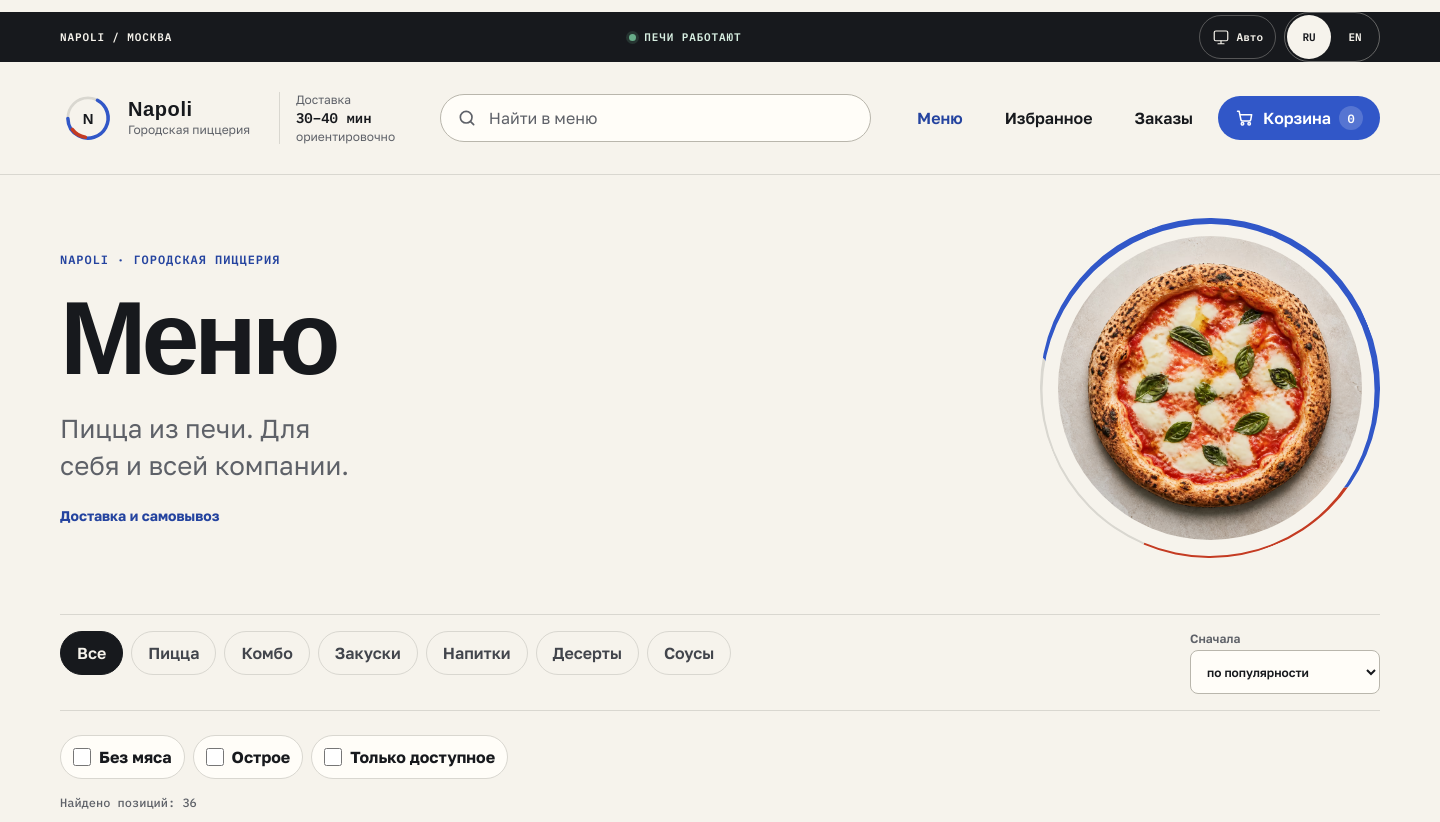
Scenario: Napoli shell and routes remain green › clears search with a named control and restores focus
In the search field named "Поиск по меню": (656, 118) [440,94,871,142], type "сыр"
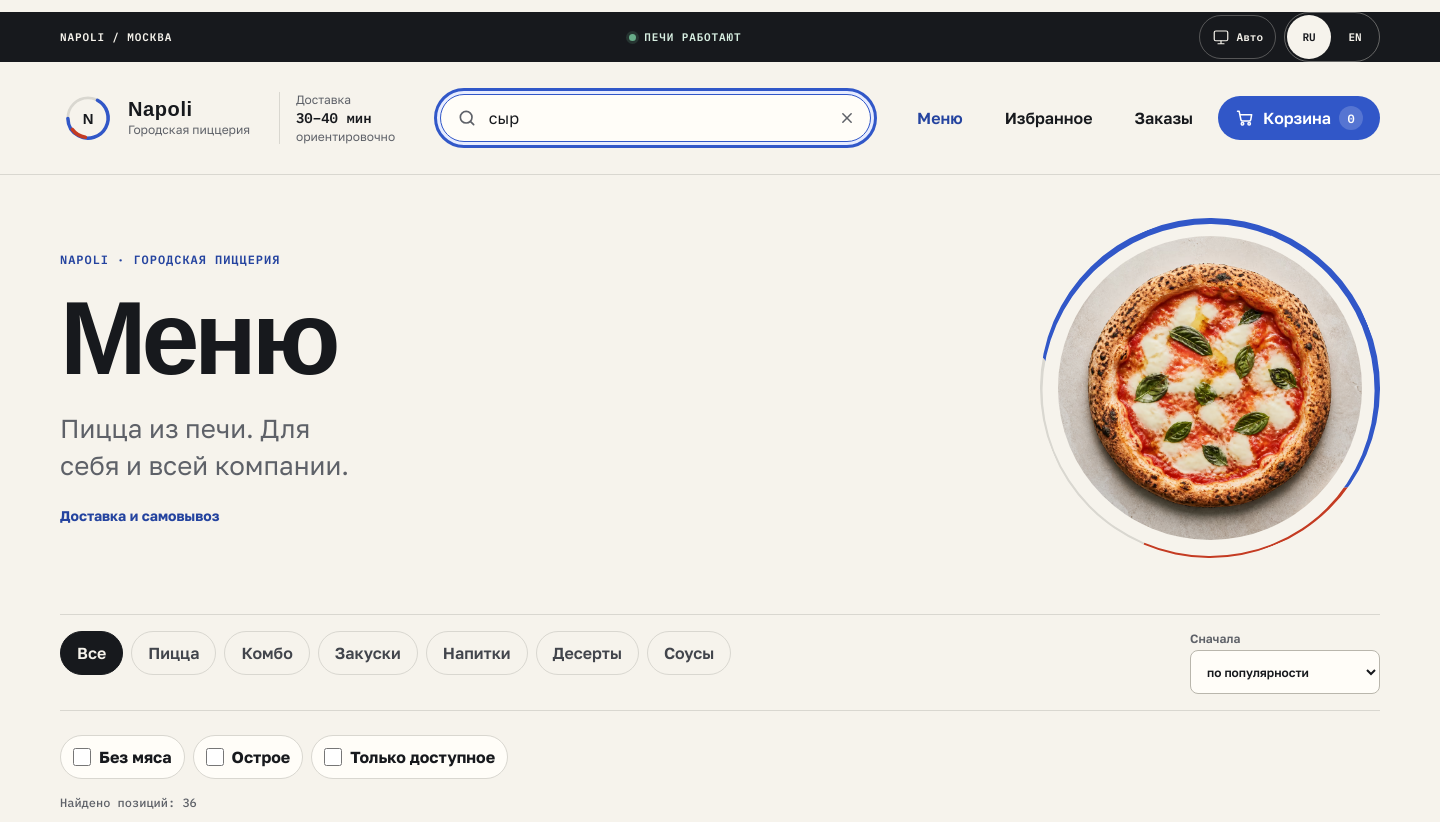
Click the button named "Очистить поиск": (847, 118) [825,96,869,140]
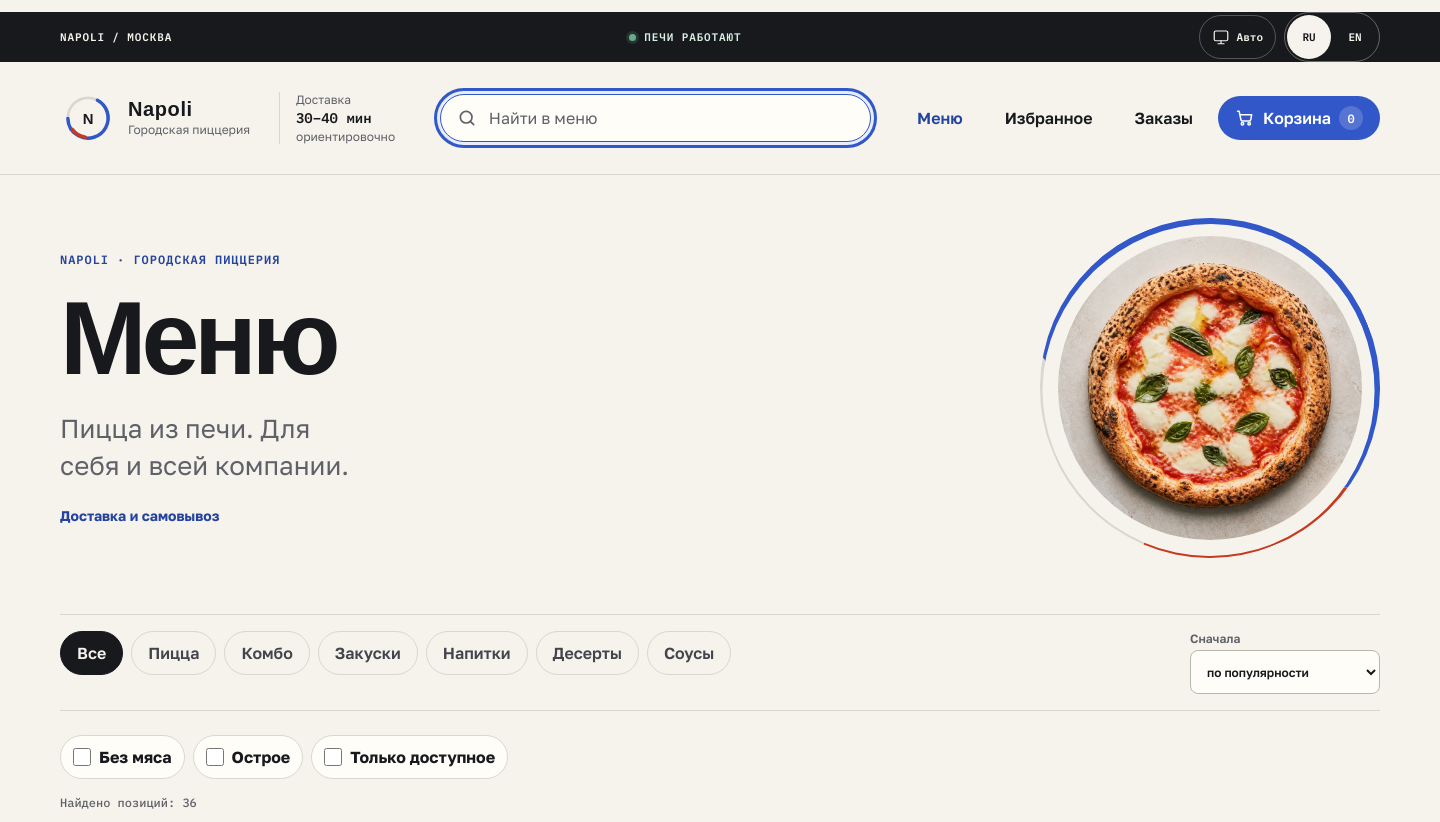
expect the search field named "Поиск по меню" is empty: met, box [440,94,871,142]
